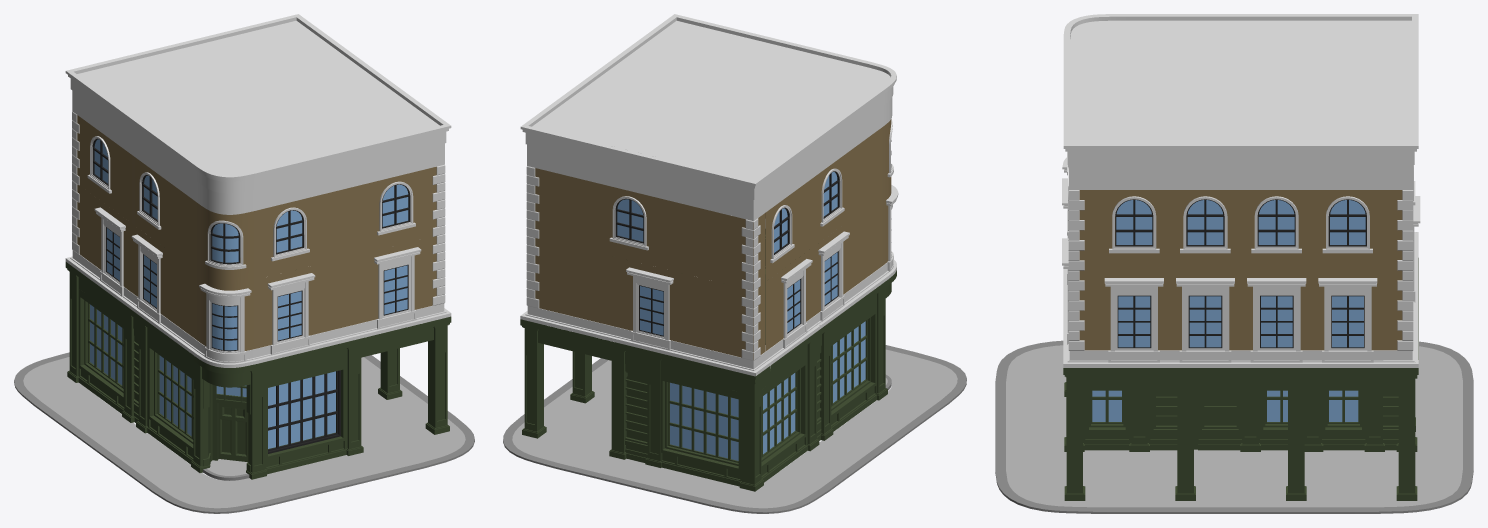
File: Modular Building_1.fbx
The picture shows the model from 3 angles, left to right: view 1: azimuth 30°, elevation 25°; view 2: azimuth 150°, elevation 25°; view 3: azimuth 270°, elevation 25°; orthographic projection. The views are drawn at different scales.
Parts seen in each view (by area): view 1: Plane.002, Cube.024, Cube.004, Cube.007, Cube.001, Cube, Cube.037, Cube.097, Cube.031, Cube.034, Cube.100, Cube.113 (+64 smaller); view 2: Plane.002, Cube.099, Cube.085, Cube.086, Cube.069, Cube.073, Cube.097, Cube.100, Cube.031, Cube.119, Cube.098, Cube.034 (+63 smaller); view 3: Plane.002, Cube.026, Cube.045, Cube.053, Cube.057, Cube.049, Cube.046, Cube.054, Cube.058, Cube.050, Cube.113, Cube.116 (+56 smaller).
Boxes of the visible parts, <box> form: Plane.002: <box>141,48,377,154</box>; Cube.024: <box>264,361,347,474</box>; Cube.004: <box>191,271,265,367</box>; Cube.007: <box>196,202,263,283</box>; Cube.001: <box>316,252,372,348</box>; Cube: <box>263,265,319,361</box>; Cube.037: <box>369,239,425,335</box>; Cube.097: <box>78,288,124,413</box>; Cube.031: <box>147,339,193,464</box>; Cube.034: <box>139,468,295,513</box>; Cube.100: <box>80,190,134,308</box>; Cube.113: <box>369,409,474,473</box>; Plane.002: <box>595,49,833,155</box>; Cube.099: <box>650,373,741,486</box>; Cube.085: <box>600,254,678,356</box>; Cube.086: <box>603,184,678,272</box>; Cube.069: <box>547,241,603,338</box>; Cube.073: <box>675,272,731,369</box>; Cube.097: <box>761,356,807,482</box>; Cube.100: <box>766,245,820,364</box>; Cube.031: <box>831,305,876,431</box>; Cube.119: <box>685,466,842,513</box>; Cube.098: <box>609,347,763,491</box>; Cube.034: <box>881,346,966,413</box>; Plane.002: <box>1126,45,1355,123</box>; Cube.026: <box>1064,375,1417,500</box>; Cube.045: <box>1098,270,1169,367</box>; Cube.053: <box>1241,270,1312,367</box>; Cube.057: <box>1312,270,1383,367</box>; Cube.049: <box>1170,270,1240,367</box>; Cube.046: <box>1098,190,1169,270</box>; Cube.054: <box>1241,190,1312,270</box>; Cube.058: <box>1312,190,1383,270</box>; Cube.050: <box>1170,190,1240,270</box>; Cube.113: <box>995,456,1129,513</box>; Cube.116: <box>1342,455,1473,513</box>.
Bounding box in the file's own units: 1202 × 1163 × 1411.
